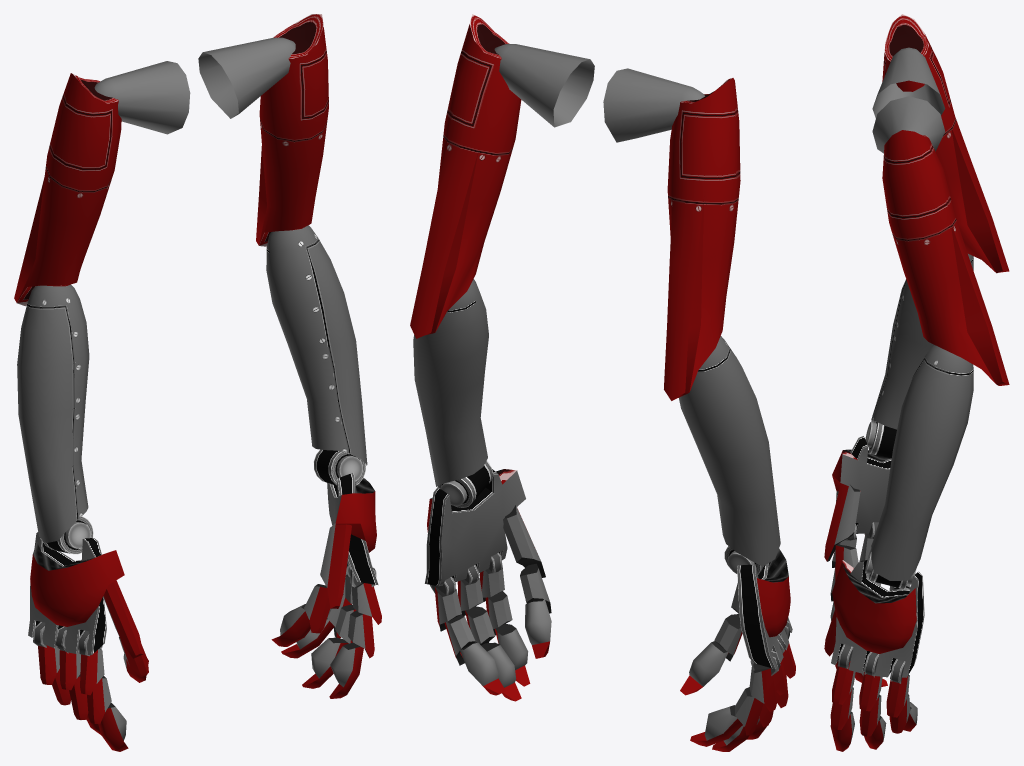
The model's file is arms_l.fbx.
The picture shows the model from 3 angles, left to right: view 1: azimuth 30°, elevation 25°; view 2: azimuth 150°, elevation 25°; view 3: azimuth 270°, elevation 25°; orthographic projection. The views are drawn at different scales.
Parts seen in each view (by area): view 1: ARMS_L; view 2: ARMS_L; view 3: ARMS_L.
Boxes of the visible parts, left/top/right/bottom form: ARMS_L: left=14, top=14, right=381, bottom=751; ARMS_L: left=410, top=14, right=795, bottom=751; ARMS_L: left=824, top=14, right=1009, bottom=751.
Bounding box in the file's own units: 40.86 × 76.78 × 20.48.
